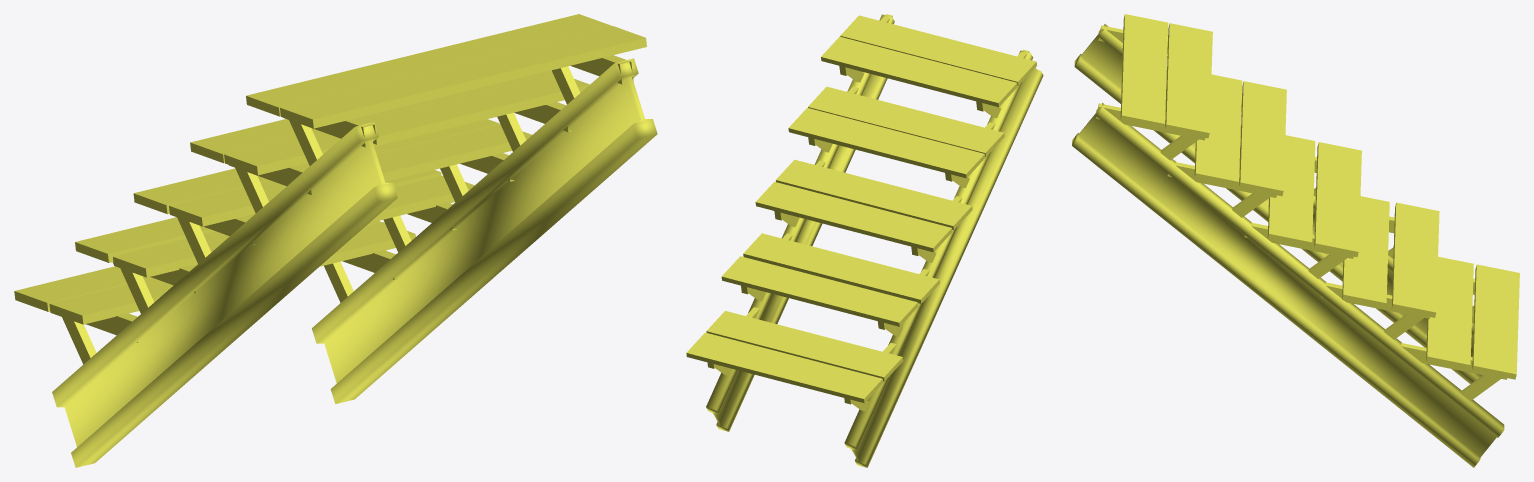
File: escalera.fbx
3 views of the same model, side by side, from view 1: azimuth 30°, elevation 25°; view 2: azimuth 150°, elevation 25°; view 3: azimuth 270°, elevation 25° (orthographic). The views are drawn at different scales.
Parts seen in each view (by area): view 1: escalera; view 2: escalera; view 3: escalera.
Part boxes in pixels (x1=…): escalera: x1=14, y1=14, x2=657, y2=467; escalera: x1=686, y1=14, x2=1043, y2=467; escalera: x1=1072, y1=14, x2=1519, y2=467.
Bounding box in the file's own units: 341 × 537 × 607.
